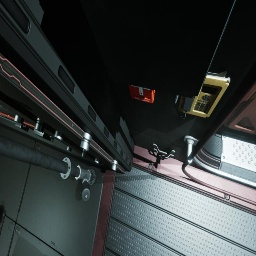EmergencyPhone ,: (173, 63, 230, 119)
FireAlarm ,: (128, 84, 155, 103)
